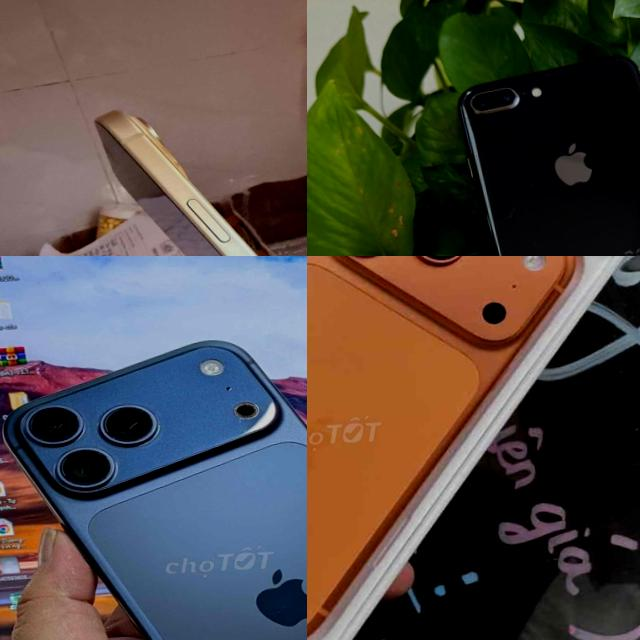gen_15: (83, 89, 307, 256)
gen_17: (307, 256, 623, 640), (0, 319, 307, 640)
gen_7_8: (450, 41, 640, 256)
